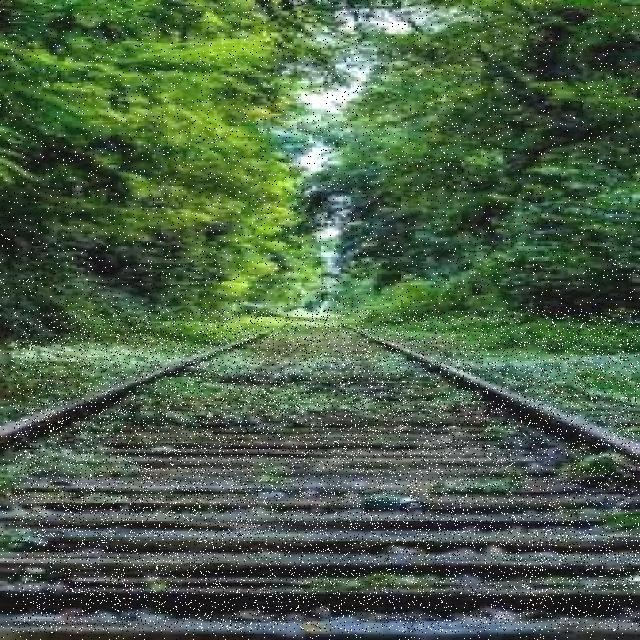rail: (13, 310, 639, 632)
